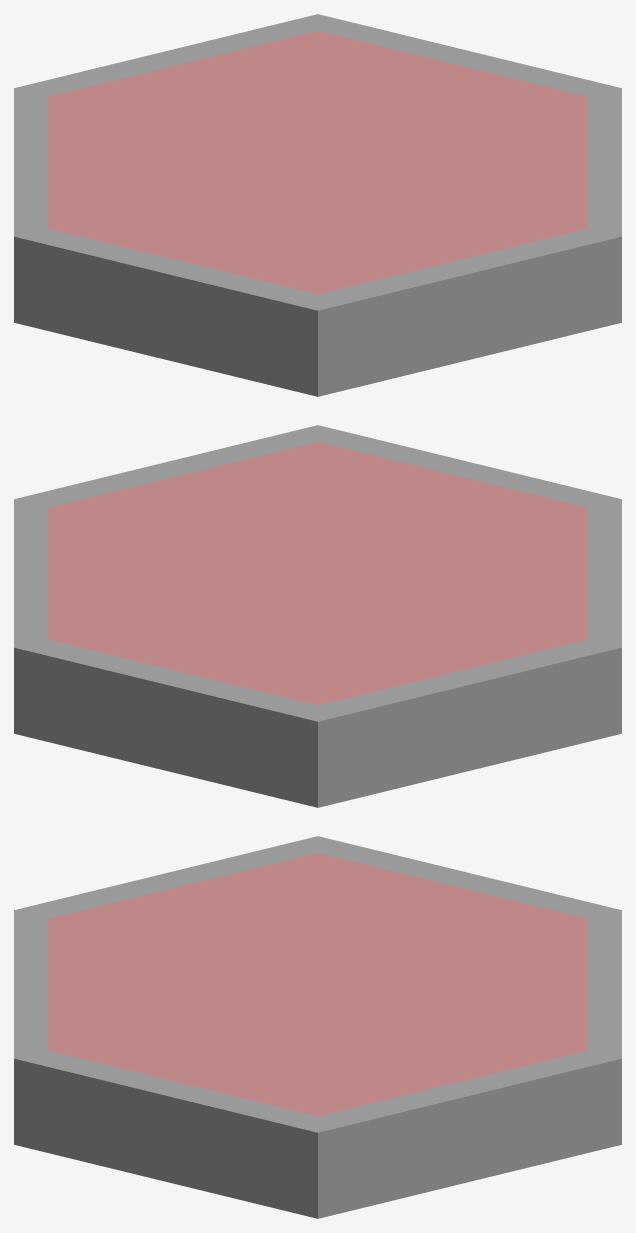
3 views of the same model, one above another, from view 1: azimuth 30°, elevation 25°; view 2: azimuth 150°, elevation 25°; view 3: azimuth 270°, elevation 25° (orthographic).
Parts seen in each view (by area): view 1: pCylinder25; view 2: pCylinder25; view 3: pCylinder25.
Part boxes in pixels (x1,y1,x2,y2): pCylinder25: (14,14,621,396); pCylinder25: (14,425,621,807); pCylinder25: (14,836,621,1218).
Bounding box in the file's own units: 2 × 0.2707 × 1.73.
